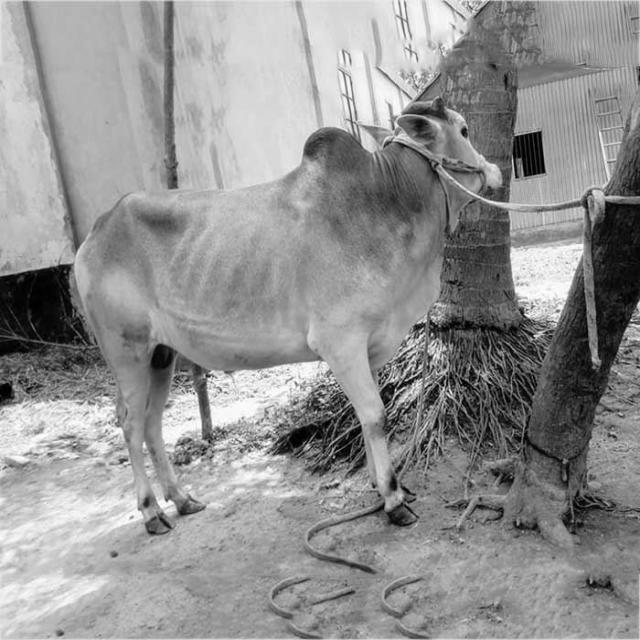cow: (76, 128, 469, 534), (398, 102, 500, 191)
